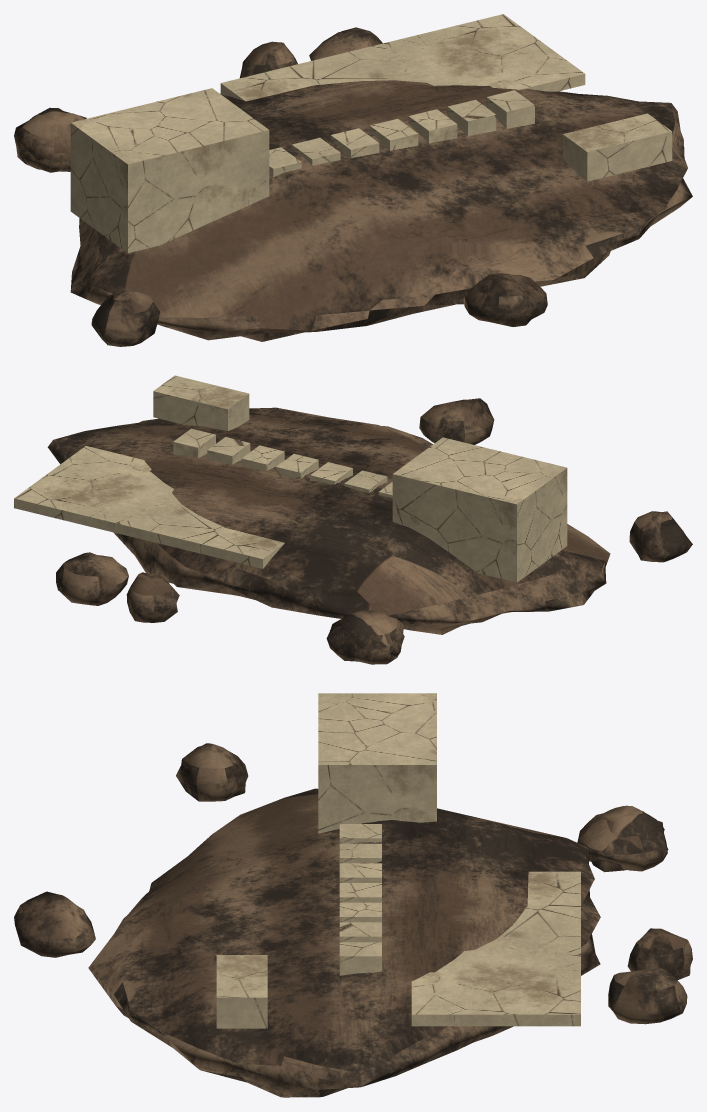
Rendered from FossiliDrago.fbx.
The picture shows the model from 3 angles, top to bottom: view 1: azimuth 30°, elevation 25°; view 2: azimuth 150°, elevation 25°; view 3: azimuth 270°, elevation 25°; orthographic projection. The views are drawn at different scales.
Visible parts, largest first — view 1: Fossili_Roccia, PLACEHOLDER_Fossili; view 2: Fossili_Roccia, PLACEHOLDER_Fossili; view 3: Fossili_Roccia, PLACEHOLDER_Fossili.
Boxes of the visible parts, x1,y1,x2,y2 form: Fossili_Roccia: (14, 27, 692, 346); PLACEHOLDER_Fossili: (70, 14, 672, 253); Fossili_Roccia: (47, 398, 692, 664); PLACEHOLDER_Fossili: (14, 375, 567, 582); Fossili_Roccia: (14, 743, 692, 1097); PLACEHOLDER_Fossili: (216, 693, 580, 1028).
Bounding box in the file's own units: 924 × 202 × 801.
